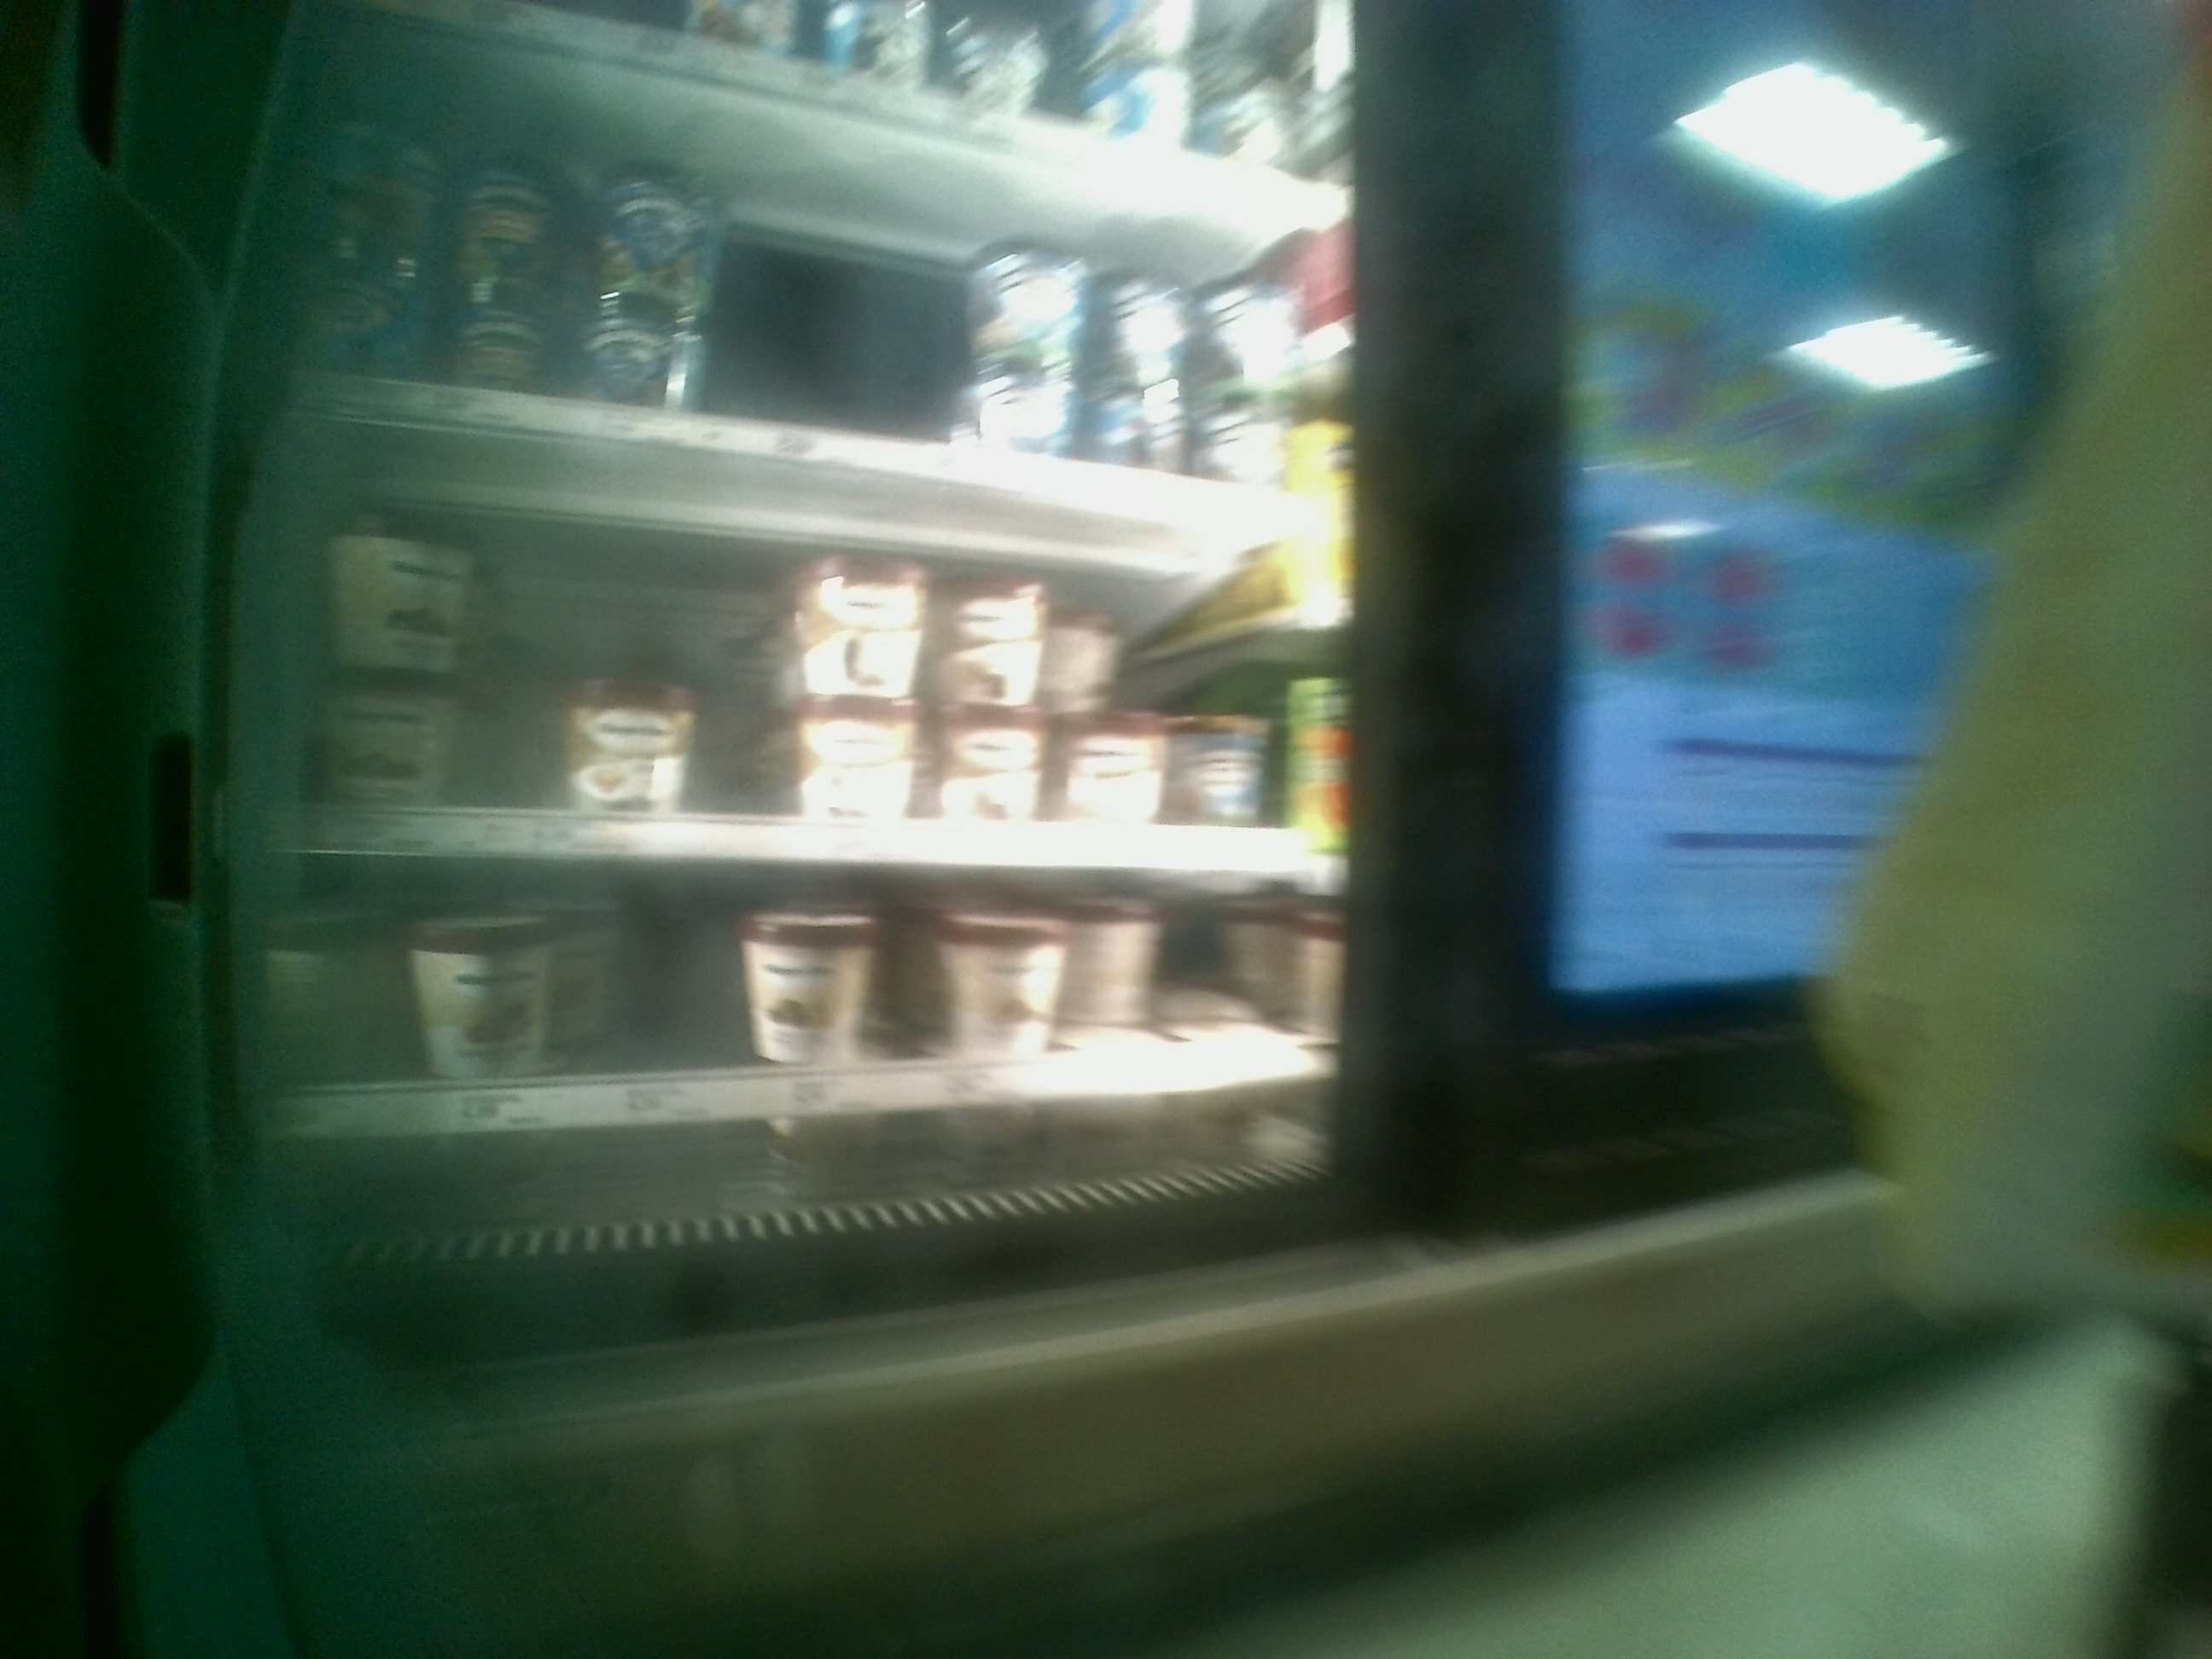shelf: (275, 396, 1359, 863), (268, 854, 1345, 1171)
